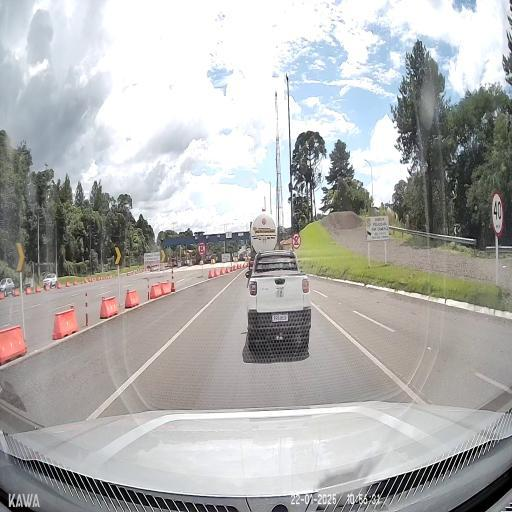R-6c: (491, 190, 503, 238), (292, 232, 301, 248), (198, 242, 206, 256)
